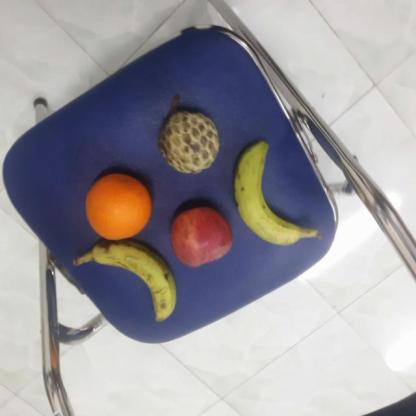annona: (156, 110, 223, 176)
apple: (168, 204, 236, 268)
banana: (229, 139, 311, 247), (90, 238, 180, 325)
orange: (82, 169, 153, 244)
